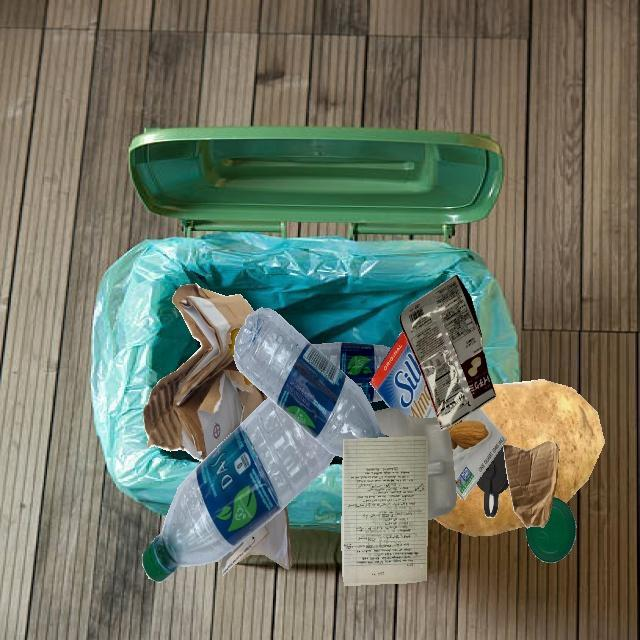biowaste: (480, 379, 605, 503), (433, 483, 525, 536), (228, 328, 240, 357), (242, 374, 252, 386)
cardboard: (142, 284, 268, 461), (370, 330, 437, 418), (448, 407, 506, 500), (503, 441, 559, 528)
glass: (332, 454, 335, 458)
paper: (341, 436, 428, 586), (218, 506, 292, 577)
plastic: (142, 397, 334, 582), (233, 307, 390, 457), (399, 275, 496, 431), (374, 408, 457, 520), (312, 342, 391, 403), (526, 497, 576, 563), (476, 446, 509, 518), (197, 460, 202, 466)
